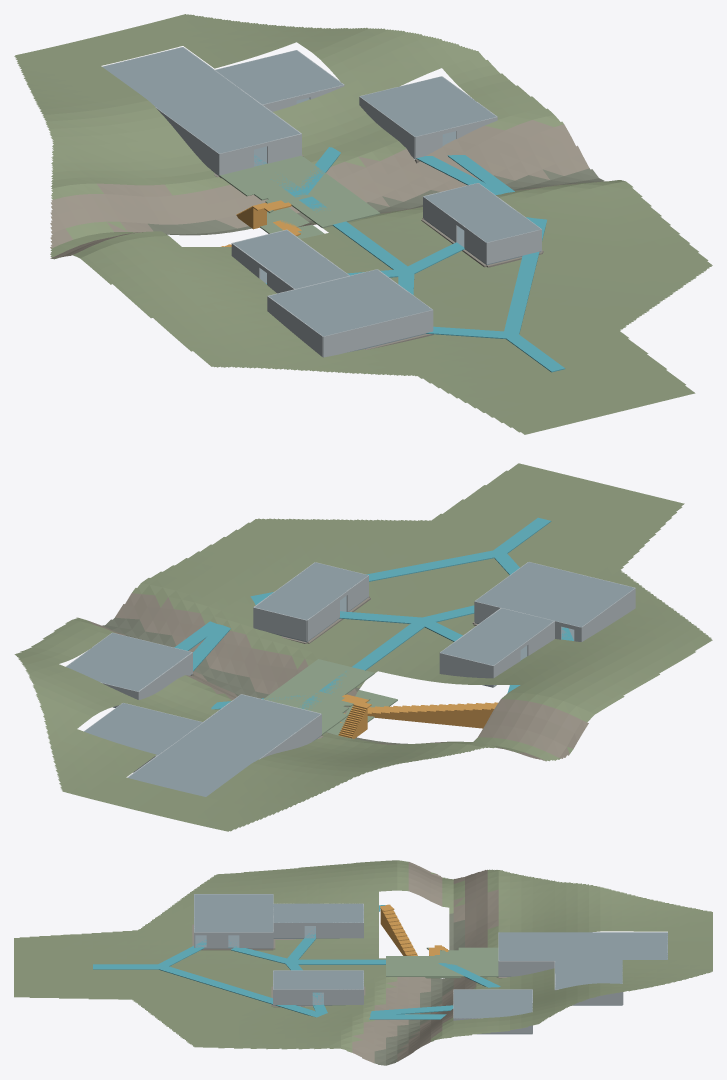
Rendered from bayed-stairs.glb.
The picture shows the model from 3 angles, top to bottom: view 1: azimuth 30°, elevation 25°; view 2: azimuth 150°, elevation 25°; view 3: azimuth 270°, elevation 25°; orthographic projection. The views are drawn at different scales.
Parts seen in each view (by area): view 1: Saved editor macroterrain WLD-12, Ceiling cap tunnel, Ceiling cap signal, Ceiling cap store, Ceiling cap refuge, Ceiling cap coach-b, Ceiling cap coach-a, Wall signal S, Floor trestle.008, L04 support 0, Floor trestle.005, Wall coach-b S (+10 smaller); view 2: Saved editor macroterrain WLD-12, Ceiling cap tunnel, Ceiling cap signal, Ceiling cap store, Ceiling cap refuge, Ceiling cap coach-b, Ceiling cap coach-a, Floor trestle.008, L04 support 0, Wall coach-b N, Wall signal W, Wall coach-a N (+8 smaller); view 3: Saved editor macroterrain WLD-12, Ceiling cap tunnel, Ceiling cap signal, Ceiling cap store, Ceiling cap coach-b, Ceiling cap coach-a, Ceiling cap refuge, L04 support 0, Floor trestle.008, Wall coach-a E, Wall tunnel E.001, Wall coach-b E (+14 smaller).
Part boxes in pixels (x1=…): Saved editor macroterrain WLD-12: x1=14, y1=14, x2=712, y2=434; Ceiling cap tunnel: x1=102, y1=47, x2=299, y2=153; Ceiling cap signal: x1=269, y1=269, x2=432, y2=336; Ceiling cap store: x1=360, y1=76, x2=496, y2=136; Ceiling cap refuge: x1=215, y1=50, x2=342, y2=104; Ceiling cap coach-b: x1=424, y1=183, x2=540, y2=242; Ceiling cap coach-a: x1=233, y1=230, x2=349, y2=288; Wall signal S: x1=323, y1=310, x2=432, y2=357; Floor trestle.008: x1=293, y1=188, x2=380, y2=226; L04 support 0: x1=503, y1=218, x2=546, y2=335; Floor trestle.005: x1=248, y1=155, x2=324, y2=185; Wall coach-b S: x1=486, y1=229, x2=541, y2=264; Saved editor macroterrain WLD-12: x1=14, y1=463, x2=712, y2=831; Ceiling cap tunnel: x1=128, y1=694, x2=320, y2=796; Ceiling cap signal: x1=475, y1=562, x2=634, y2=627; Ceiling cap store: x1=66, y1=633, x2=191, y2=691; Ceiling cap refuge: x1=84, y1=703, x2=202, y2=755; Ceiling cap coach-b: x1=255, y1=562, x2=367, y2=619; Ceiling cap coach-a: x1=440, y1=608, x2=553, y2=665; Floor trestle.008: x1=285, y1=659, x2=369, y2=695; L04 support 0: x1=250, y1=550, x2=501, y2=602; Wall coach-b N: x1=253, y1=607, x2=306, y2=641; Wall signal W: x1=581, y1=588, x2=635, y2=641; Wall coach-a N: x1=439, y1=653, x2=493, y2=686; Saved editor macroterrain WLD-12: x1=14, y1=860, x2=712, y2=1065; Ceiling cap tunnel: x1=498, y1=932, x2=667, y2=960; Ceiling cap signal: x1=194, y1=894, x2=273, y2=932; Ceiling cap store: x1=453, y1=989, x2=532, y2=1018; Ceiling cap coach-b: x1=273, y1=970, x2=363, y2=989; Ceiling cap coach-a: x1=273, y1=903, x2=363, y2=922; Ceiling cap refuge: x1=555, y1=961, x2=622, y2=989; L04 support 0: x1=157, y1=965, x2=324, y2=1017; Floor trestle.008: x1=386, y1=957, x2=434, y2=976; Wall coach-a E: x1=316, y1=922, x2=363, y2=938; Wall tunnel E.001: x1=498, y1=961, x2=554, y2=976; Wall coach-b E: x1=324, y1=989, x2=363, y2=1004.
Size of the model in its own units: 75 by 10.11 by 124.
